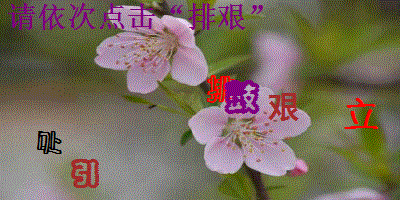text: (223, 78, 261, 115), (341, 97, 380, 131), (267, 91, 301, 122), (205, 74, 239, 104), (69, 158, 100, 189), (35, 130, 63, 155)
